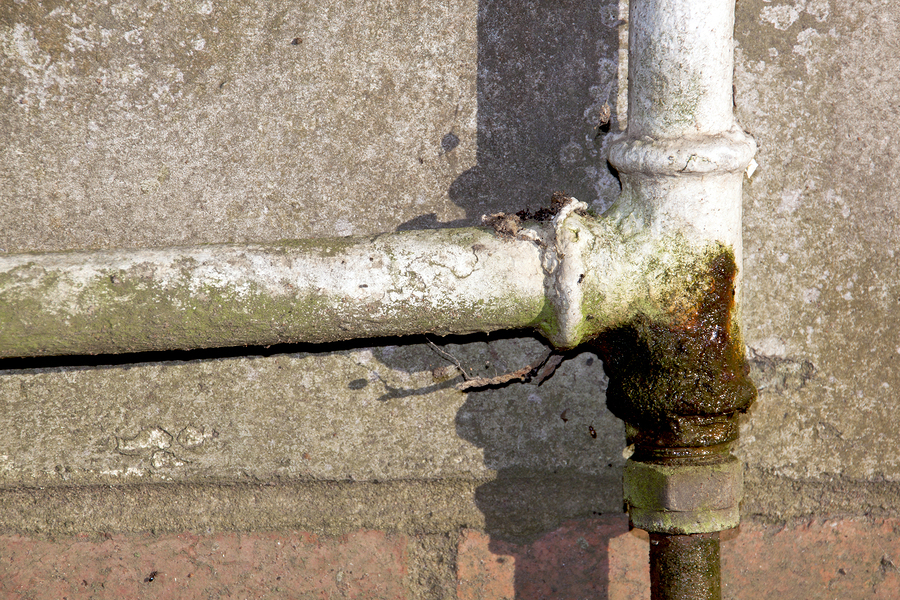Severe: (561, 205, 762, 598)
